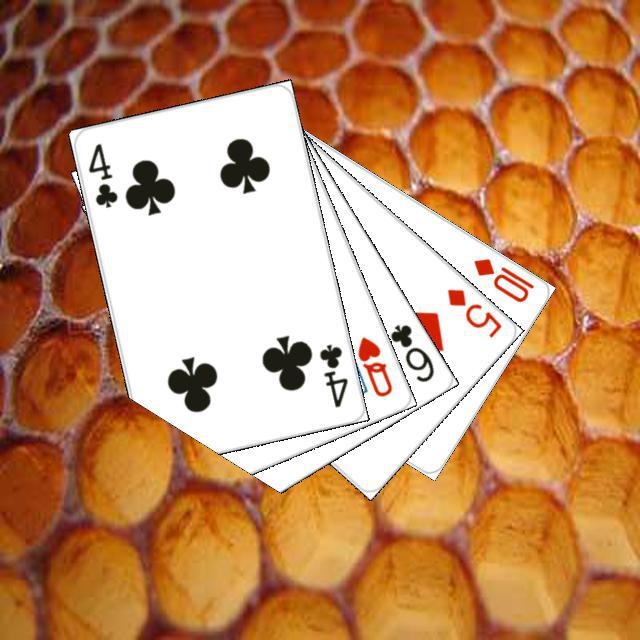10d: (468, 253, 536, 305)
4c: (83, 138, 120, 209), (314, 339, 350, 409)
5d: (442, 283, 504, 340)
6c: (385, 319, 436, 384)
Qh: (352, 331, 394, 399)
